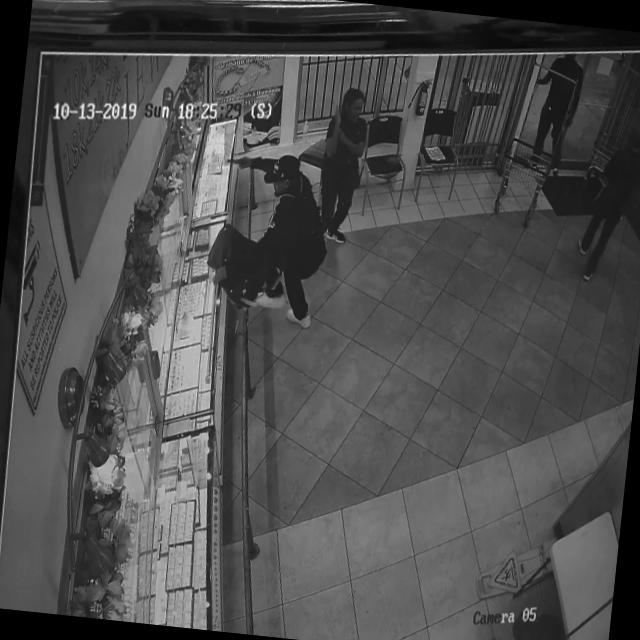gun: (224, 151, 252, 174)
person: (589, 115, 640, 267), (322, 86, 383, 200)
person with a gun: (209, 147, 336, 330)
